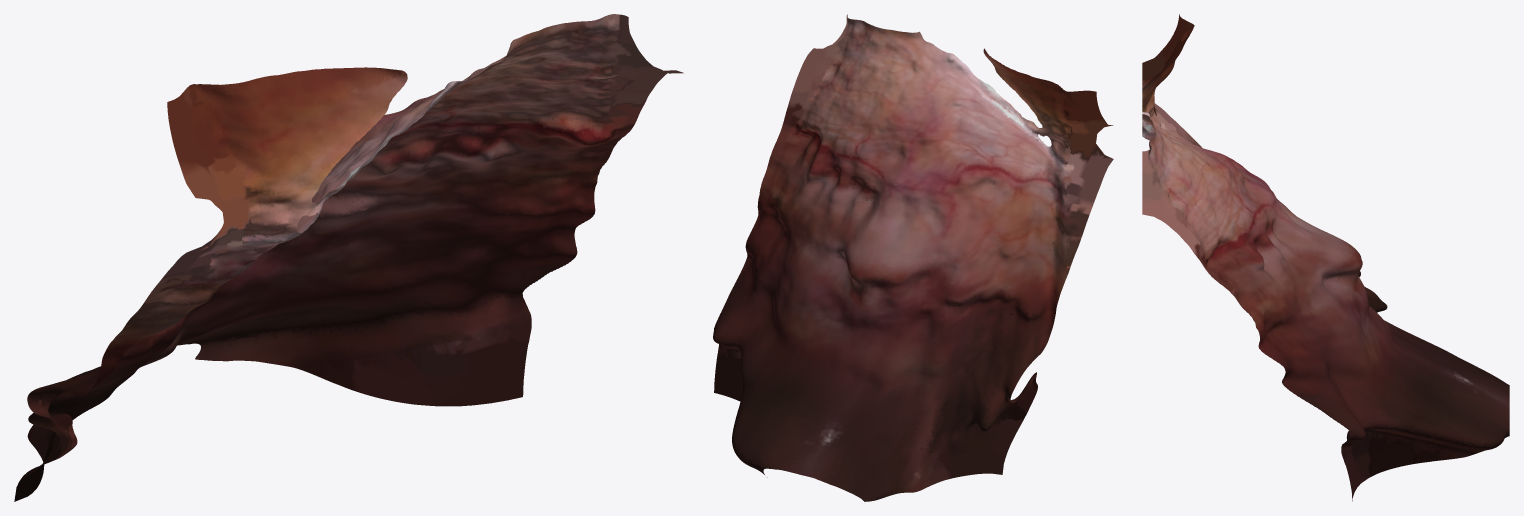
Rendered from reserve_s2_mesh.obj.
The picture shows the model from 3 angles, left to right: view 1: azimuth 30°, elevation 25°; view 2: azimuth 150°, elevation 25°; view 3: azimuth 270°, elevation 25°; orthographic projection. The views are drawn at different scales.
Size of the model in its own units: 0.8 by 0.8 by 0.8.
